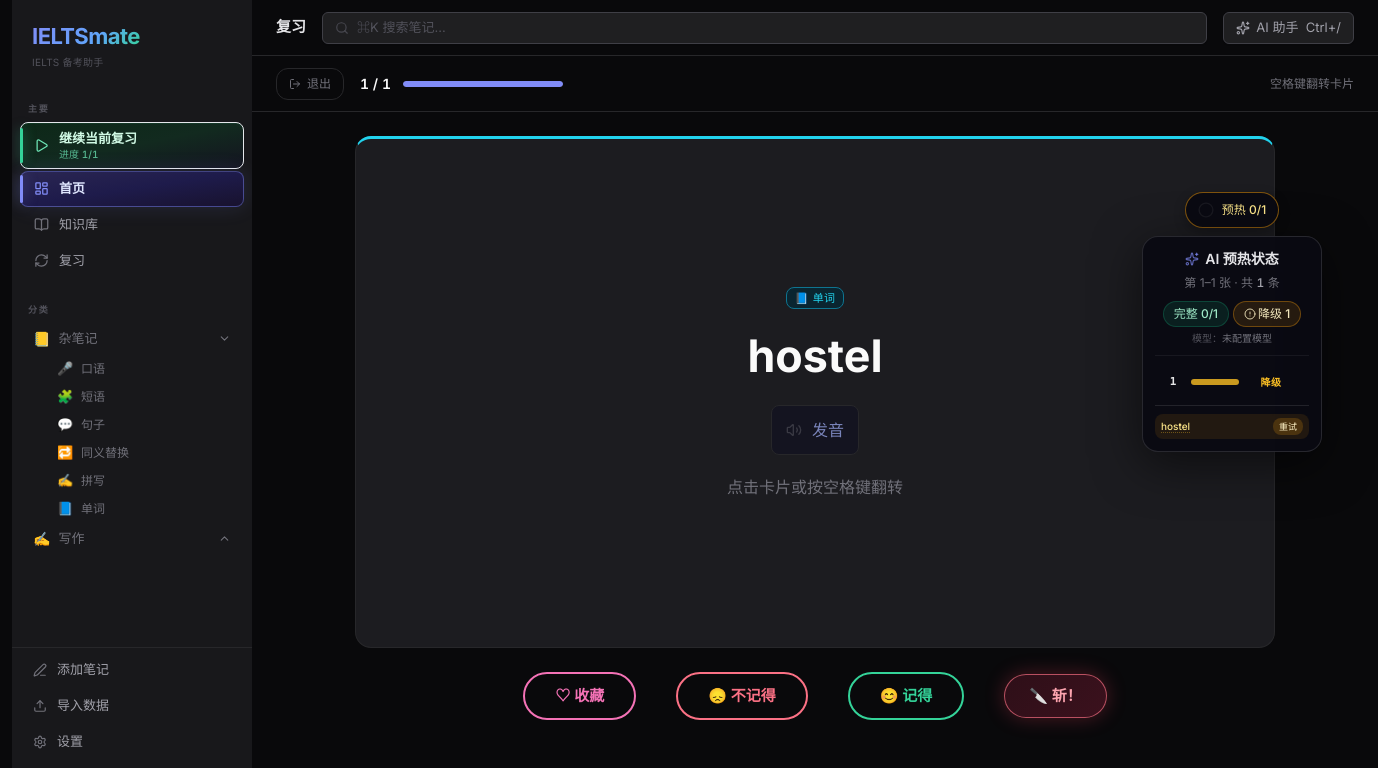
Scenario: ReviewCards user notes on card back › 显示当前卡片的备注
This screenshot has width=1378, height=768.
Click the heading "hostel": (815, 357) top-left (747, 329), bottom-right (883, 385)
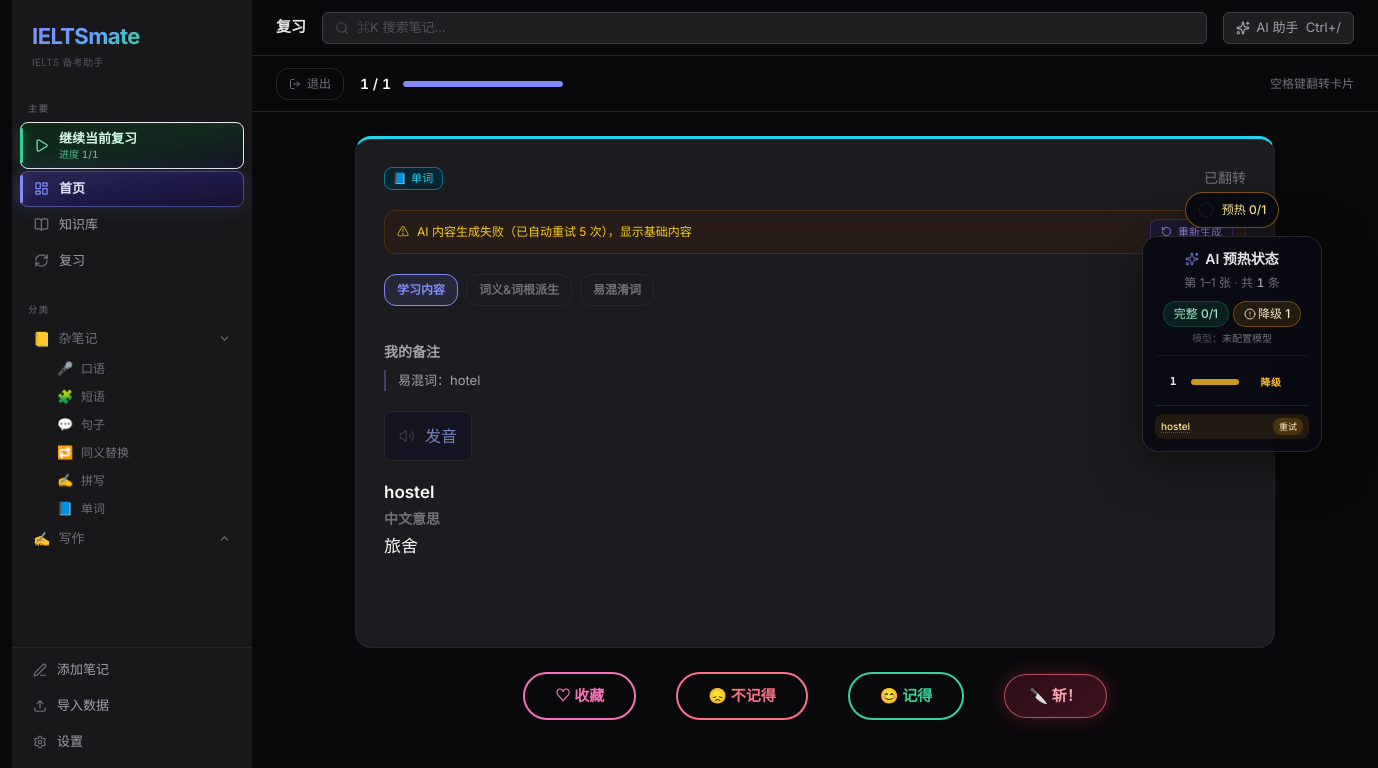
Expected: the text "我的备注" is shown, top-left (384, 343), bottom-right (440, 360)
Expected: the text "易混词：hotel" is shown, top-left (398, 372), bottom-right (480, 388)
